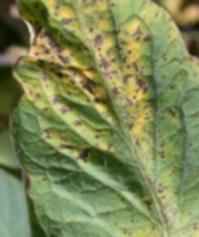Tomato leaf bacterial spot: (12, 0, 199, 237)
